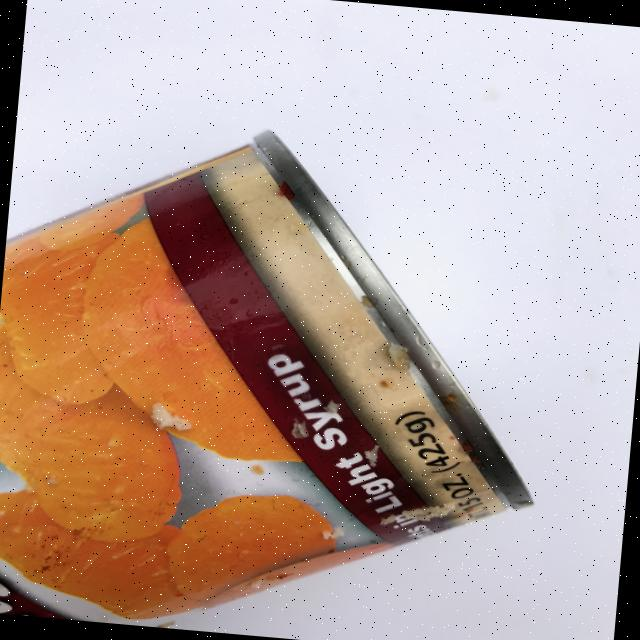metal: (0, 107, 565, 640)
